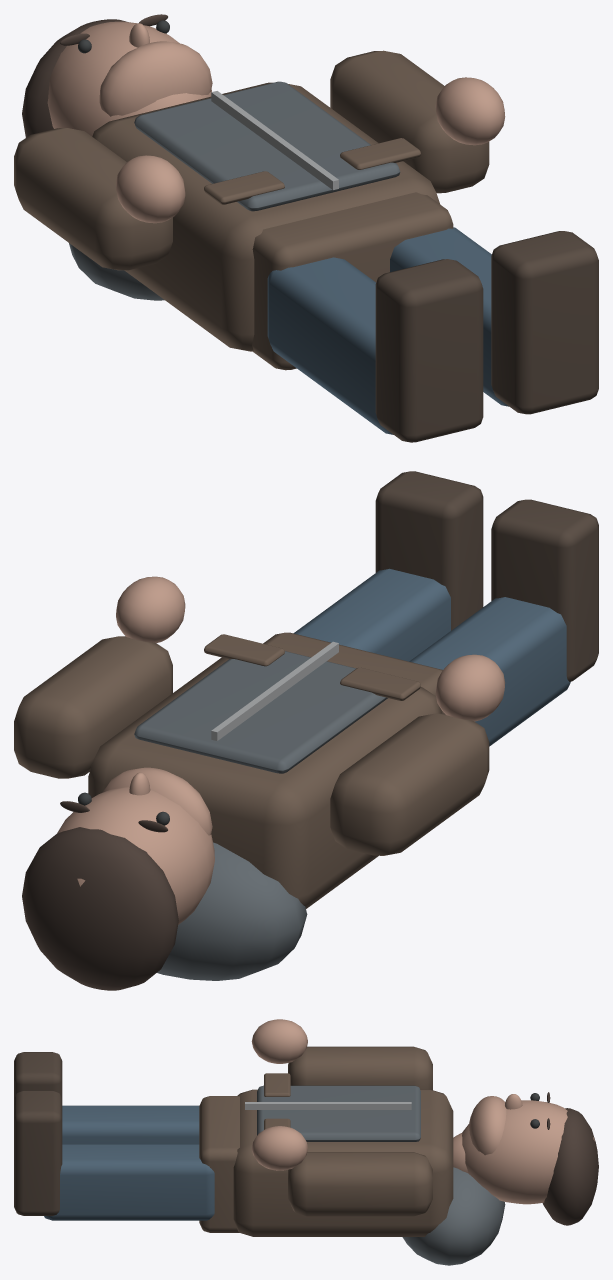
File: Survivor.glb
3 views of the same model, one above another, from view 1: azimuth 30°, elevation 25°; view 2: azimuth 150°, elevation 25°; view 3: azimuth 270°, elevation 25° (orthographic). The views are drawn at different scales.
Visible parts, largest first — view 1: torso tailored jacket, Left boot, Right boot, hoodie, Left sleeve, Left trouser, Right sleeve, waist, face, jaw, Right trouser, Left fist (+6 smaller); view 2: torso tailored jacket, hair crown, hoodie, Left sleeve, Right sleeve, Left boot, hood, Right boot, Left trouser, Right trouser, face, Left fist (+6 smaller); view 3: torso tailored jacket, Right trouser, Right sleeve, face, hoodie, Right boot, Left sleeve, Left trouser, hood, waist, hair crown, Right fist (+6 smaller).
Boxes of the visible parts, box(x1,y1,x2,y2) form: torso tailored jacket: box(92, 82, 439, 351); Left boot: box(375, 259, 483, 442); Right boot: box(491, 231, 598, 414); hoodie: box(134, 81, 400, 211); Left sleeve: box(14, 128, 172, 270); Left trouser: box(267, 257, 393, 434); Right sleeve: box(330, 50, 489, 193); waist: box(252, 192, 453, 370); face: box(47, 21, 211, 136); jaw: box(99, 41, 212, 116); Right trouser: box(390, 227, 508, 406); Left fist: box(116, 155, 185, 223); torso tailored jacket: box(88, 657, 442, 908); hair crown: box(22, 827, 178, 990); hoodie: box(134, 651, 387, 773); Left sleeve: box(330, 713, 489, 855); Right sleeve: box(14, 636, 172, 778); Left boot: box(491, 499, 598, 681); hood: box(157, 842, 307, 980); Right boot: box(375, 471, 483, 630); Left trouser: box(409, 597, 570, 746); Right trouser: box(293, 568, 450, 661); face: box(57, 787, 214, 924); Left fist: box(435, 654, 505, 721); torso tailored jacket: box(233, 1089, 453, 1236); Right trouser: box(44, 1144, 214, 1220); Right sleeve: box(288, 1152, 432, 1216); face: box(462, 1100, 594, 1204); hoodie: box(257, 1085, 420, 1141); Right boot: box(14, 1090, 62, 1215); Left sleeve: box(288, 1046, 432, 1089); Left trouser: box(62, 1105, 199, 1144); hood: box(402, 1167, 505, 1265); waist: box(199, 1096, 239, 1232); hair crown: box(542, 1108, 598, 1225); Right fist: box(251, 1126, 307, 1170).
Bounding box in the file's own units: 1.15 × 0.7312 × 2.18.
